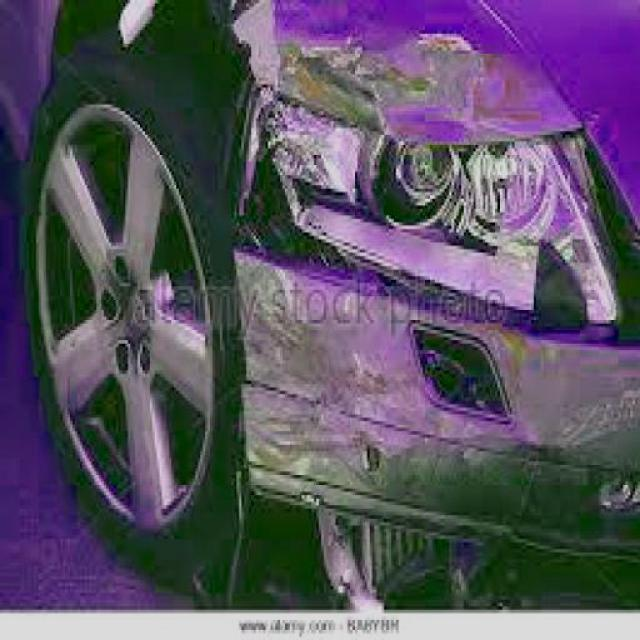car damage: (199, 5, 638, 613)
